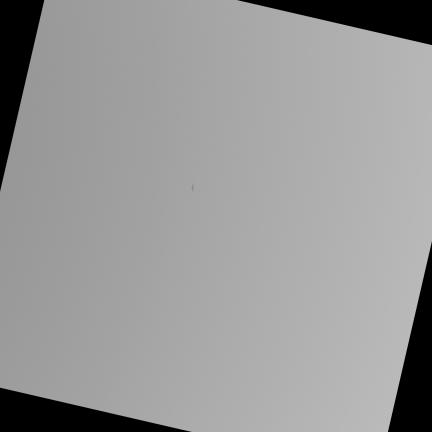Shahed: (191, 181, 194, 191)
